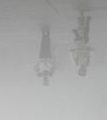person: (68, 12, 96, 77), (35, 23, 57, 87)
